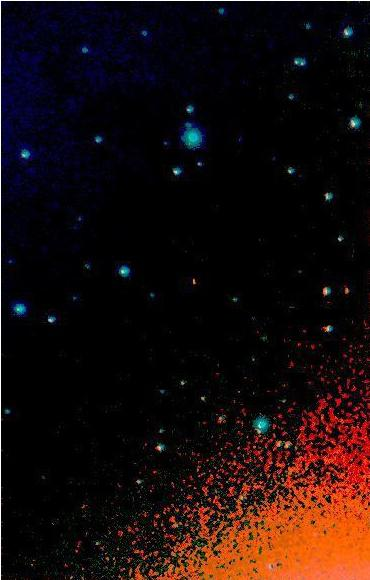star: (178, 264, 208, 294)
